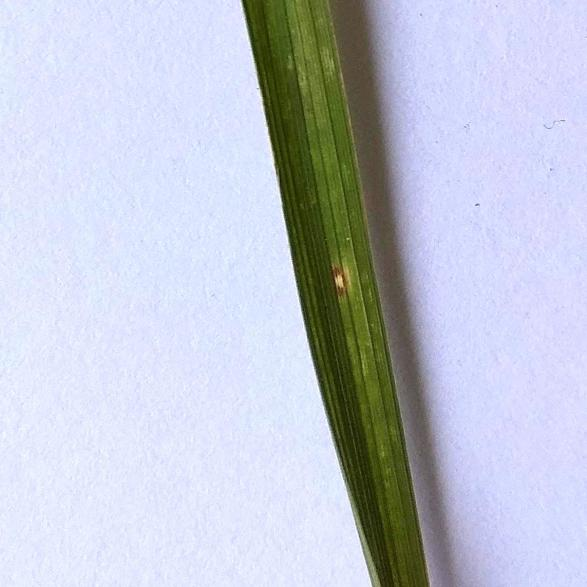Leaf_smut: (325, 253, 354, 306)
